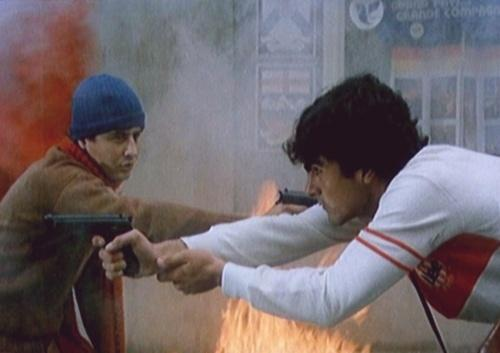Gun: (42, 211, 141, 280)
